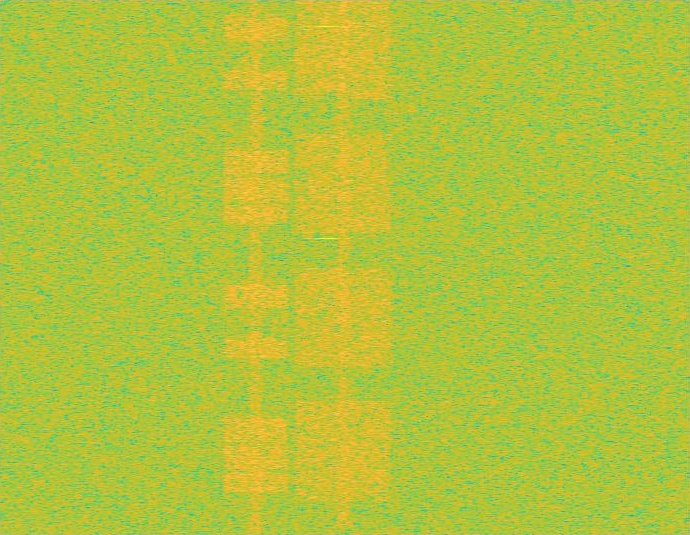5G: (292, 0, 395, 534)
DSSS: (248, 0, 264, 534), (337, 0, 351, 534)
LTE: (221, 0, 290, 534)
Radar: (320, 0, 334, 534)
